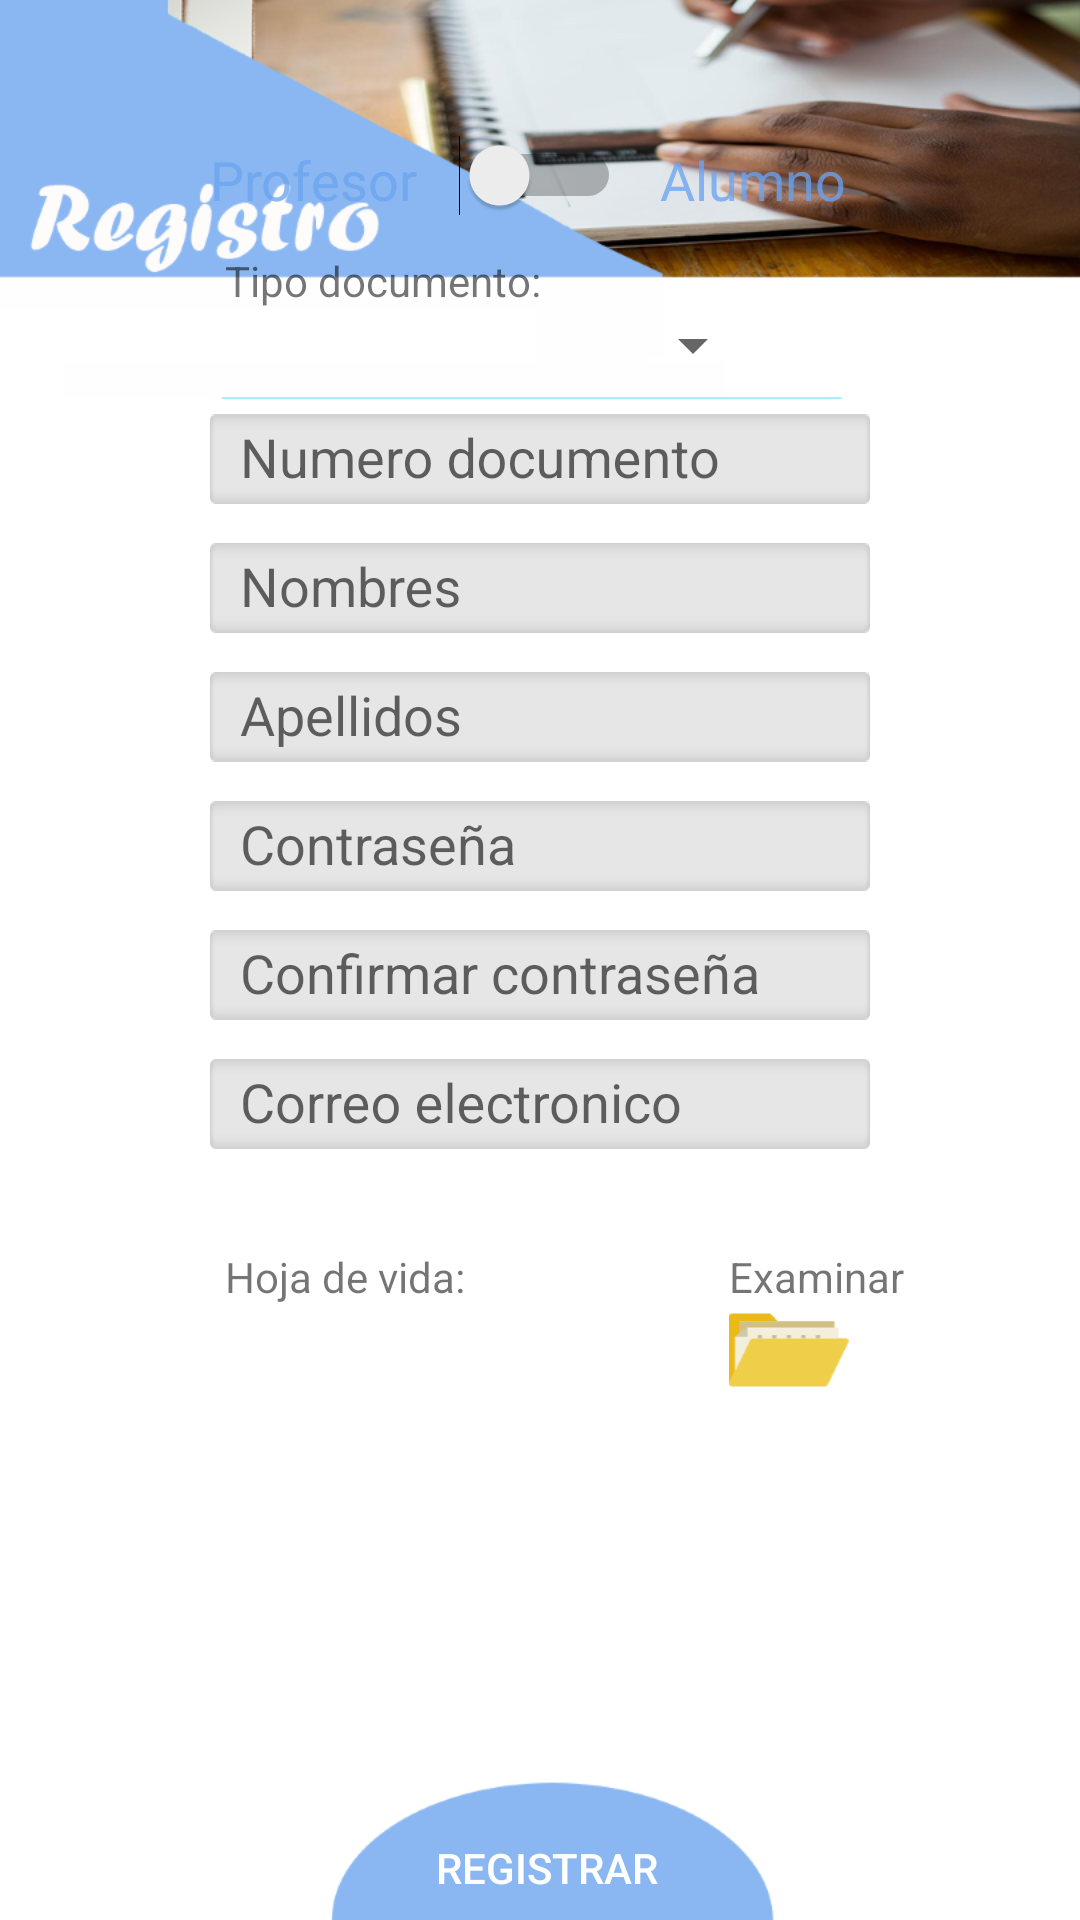

Where icons sit on this 1080 x 1920 app screen, as (x1, y1, x2, y2):
carpeta: (729, 1313, 849, 1387)
